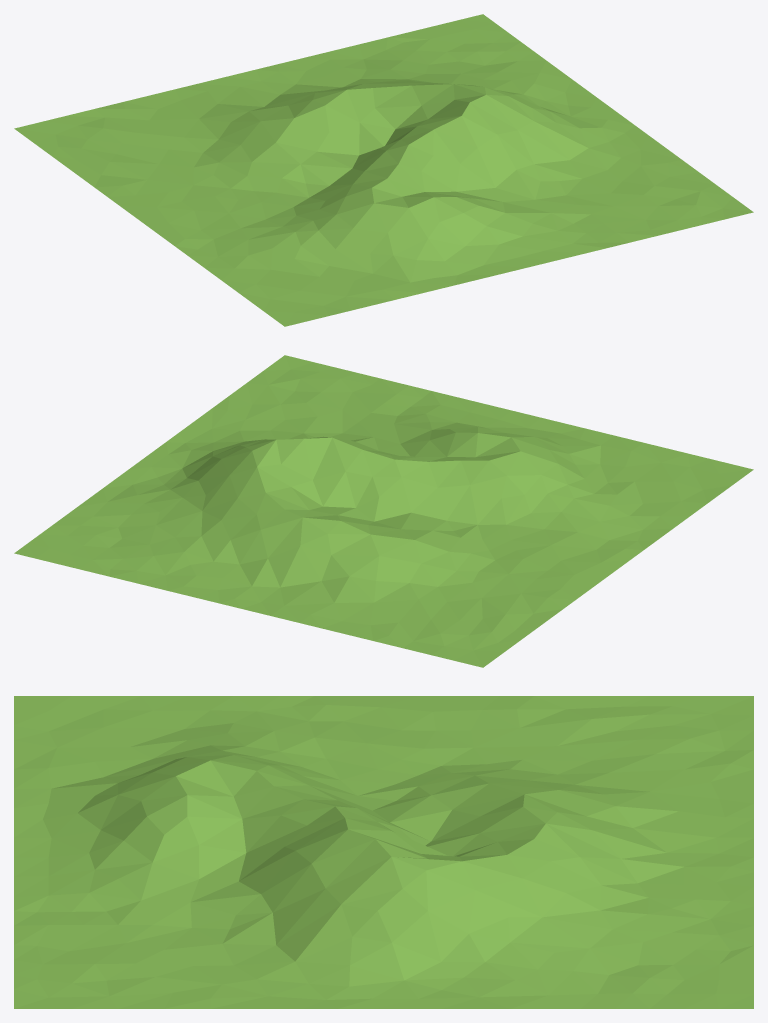
Rendered from MT_Terrain_M_a_20_LOD.fbx.
3 renders of one model, top to bottom at view 1: azimuth 30°, elevation 25°; view 2: azimuth 150°, elevation 25°; view 3: azimuth 270°, elevation 25°, orthographic. The views are drawn at different scales.
Visible parts, largest first — view 1: MT_Terrain_M_a_20_LOD0; view 2: MT_Terrain_M_a_20_LOD0; view 3: MT_Terrain_M_a_20_LOD0.
Boxes of the visible parts, x1,y1,x2,y2 form: MT_Terrain_M_a_20_LOD0: (14,14,753,326); MT_Terrain_M_a_20_LOD0: (14,355,753,667); MT_Terrain_M_a_20_LOD0: (14,696,753,1008).
Size of what is drawn, in the model's own units: 5000 by 523 by 5000.
